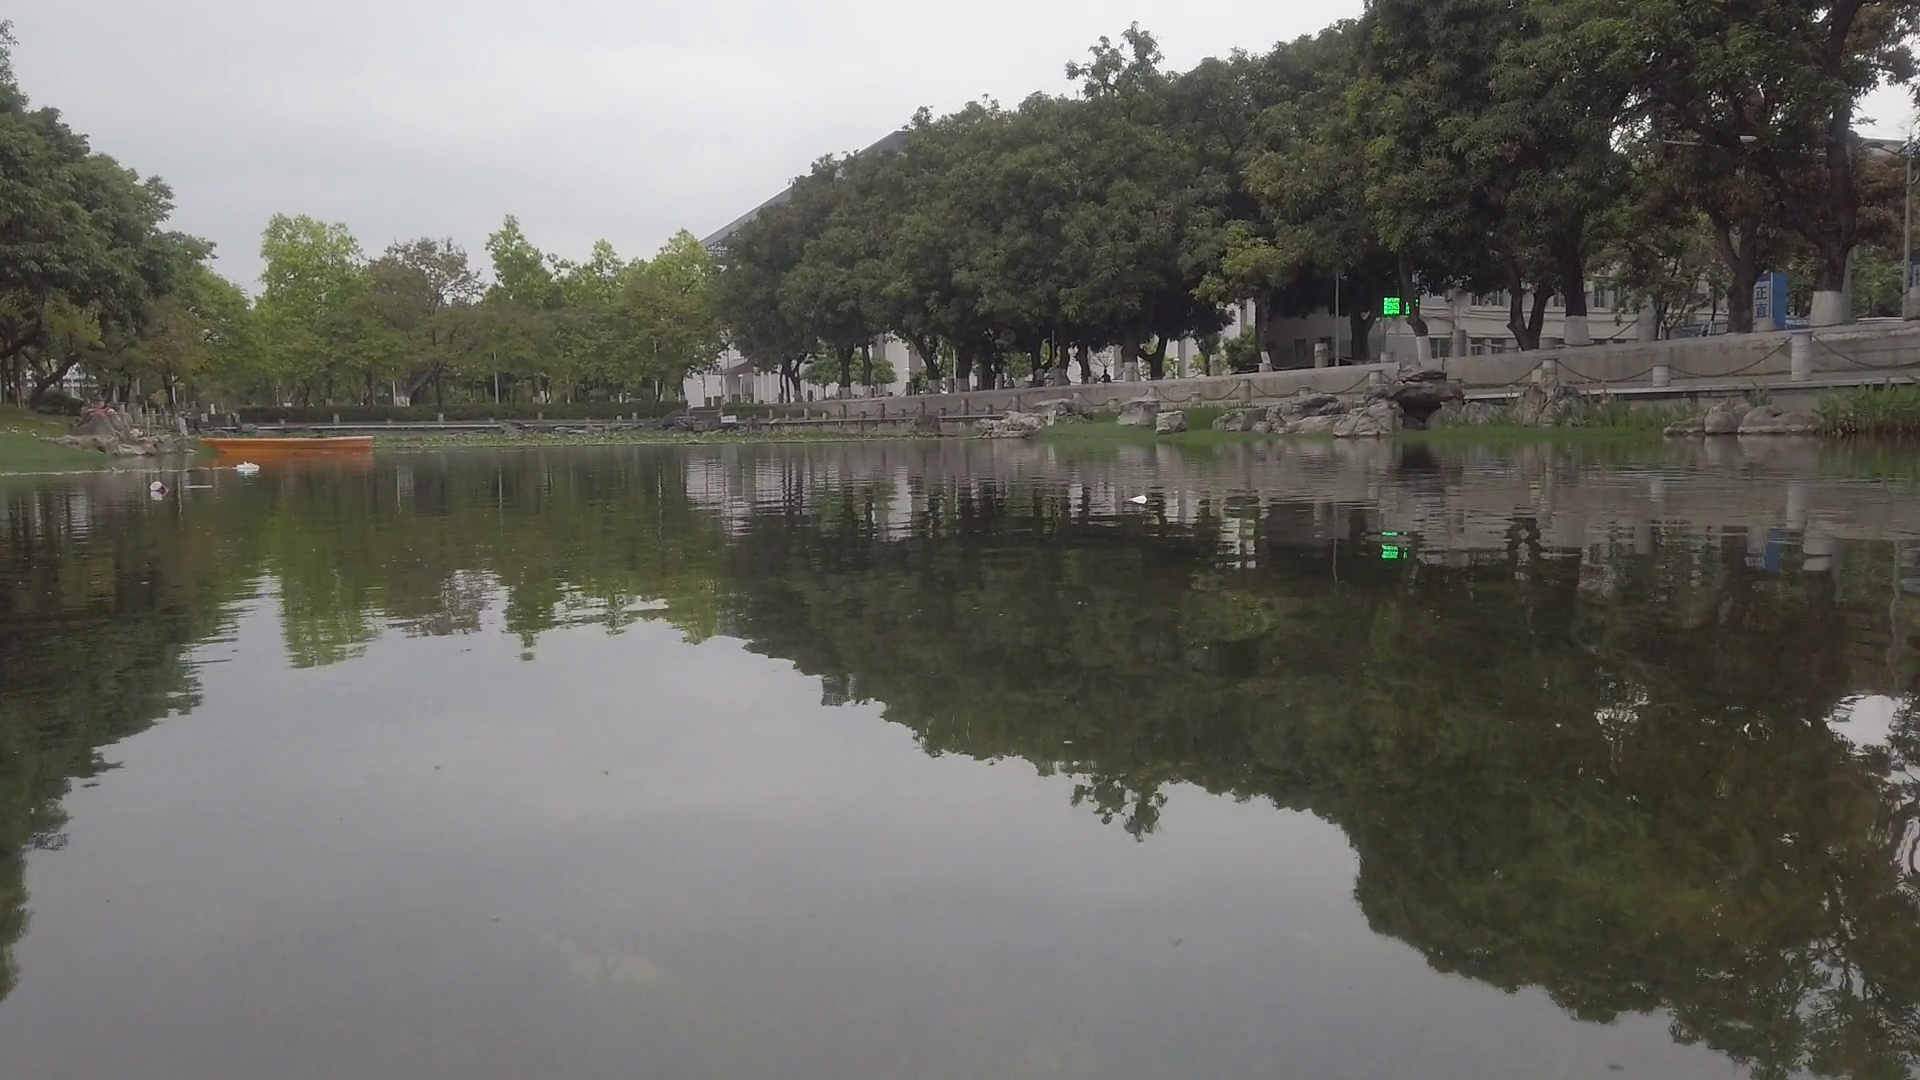bottle: (149, 480, 169, 495)
paper: (181, 480, 218, 491), (1131, 495, 1147, 502)
plastic: (237, 460, 262, 472)
